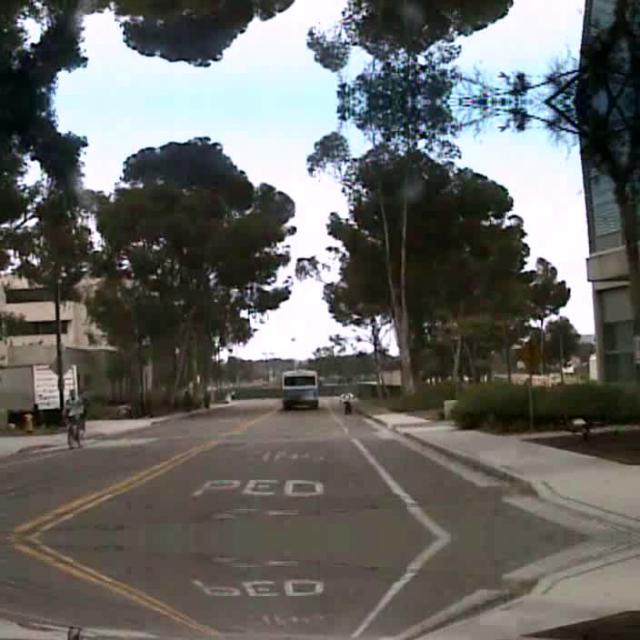pedestrianCrossing: (515, 330, 545, 372)
